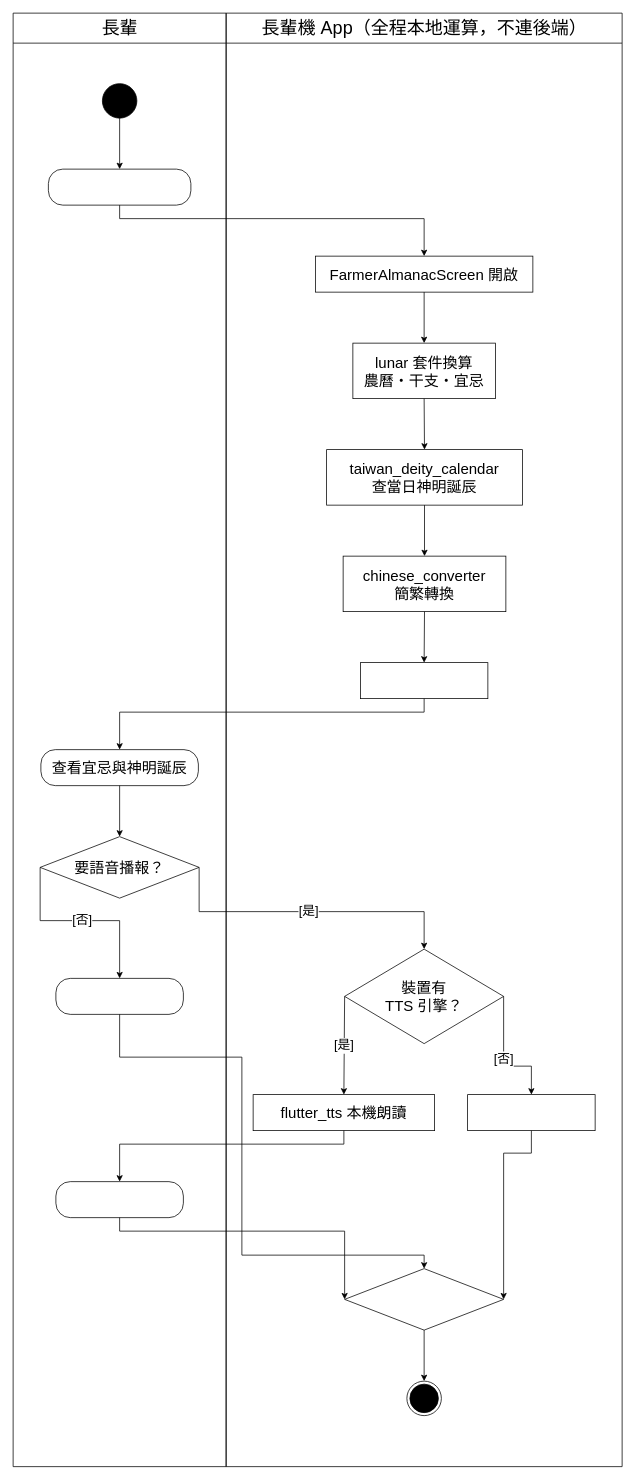
Image size: 635x1480. Some labels were removed from this diagram. The shapes that lost their labels are listed below. From the top down, each one's centre as x and y in pixels, then its label:
At [119,186]: "點選首頁日期卡片".
At [424,680]: "渲染農民曆版面".
At [119,996]: "結束".
At [531,1112]: "僅顯示文字".
At [119,1199]: "聽取語音播報".
